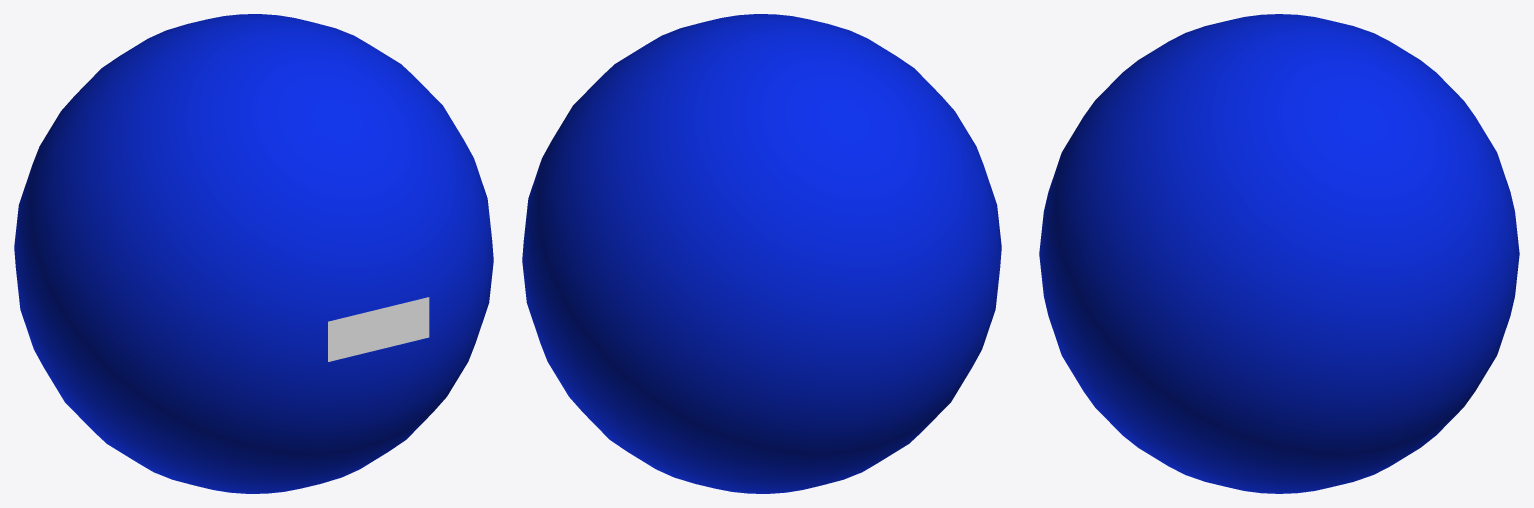
The model's file is electron.gltf.
The picture shows the model from 3 angles, left to right: view 1: azimuth 30°, elevation 25°; view 2: azimuth 150°, elevation 25°; view 3: azimuth 270°, elevation 25°; orthographic projection.
Visible parts, largest first — view 1: Text; view 2: Text; view 3: Text.
Boxes of the visible parts, x1,y1,x2,y2 form: Text: (14, 14, 493, 493); Text: (522, 14, 1001, 493); Text: (1039, 14, 1519, 493).
Size of the model in its own units: 2 by 2 by 2.04.
